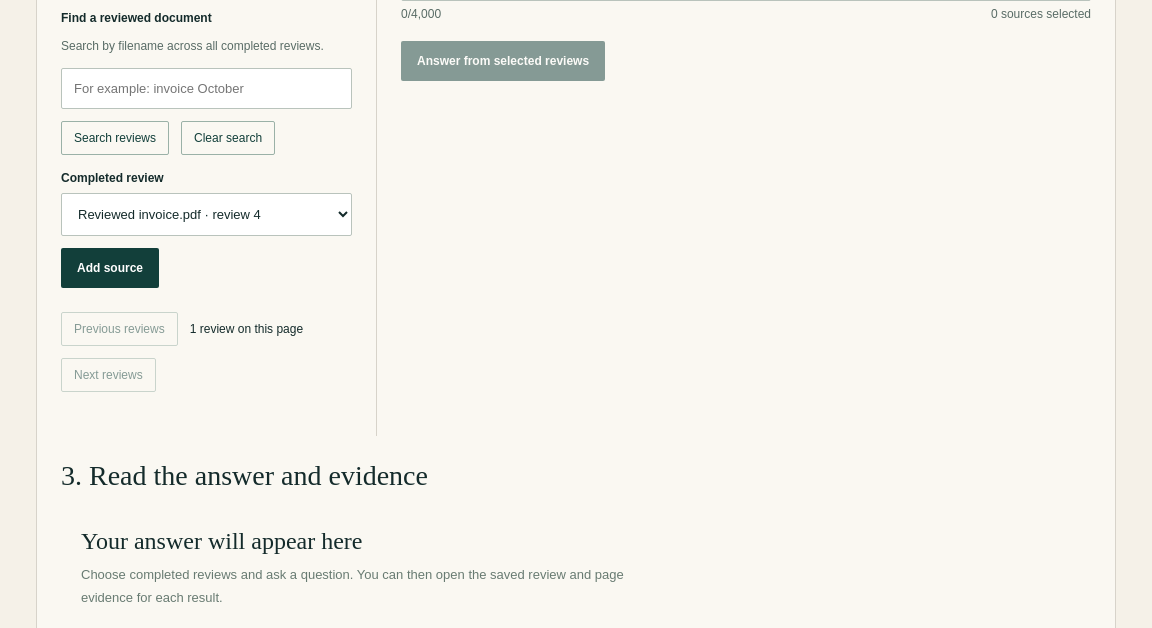
Scenario: named question workflows › replaces linked document guidance when adopting a different saved corpus
(page scrolled)
Click the button "Add source": (110, 268) x1=61 y1=248 x2=159 y2=288
(page scrolled)
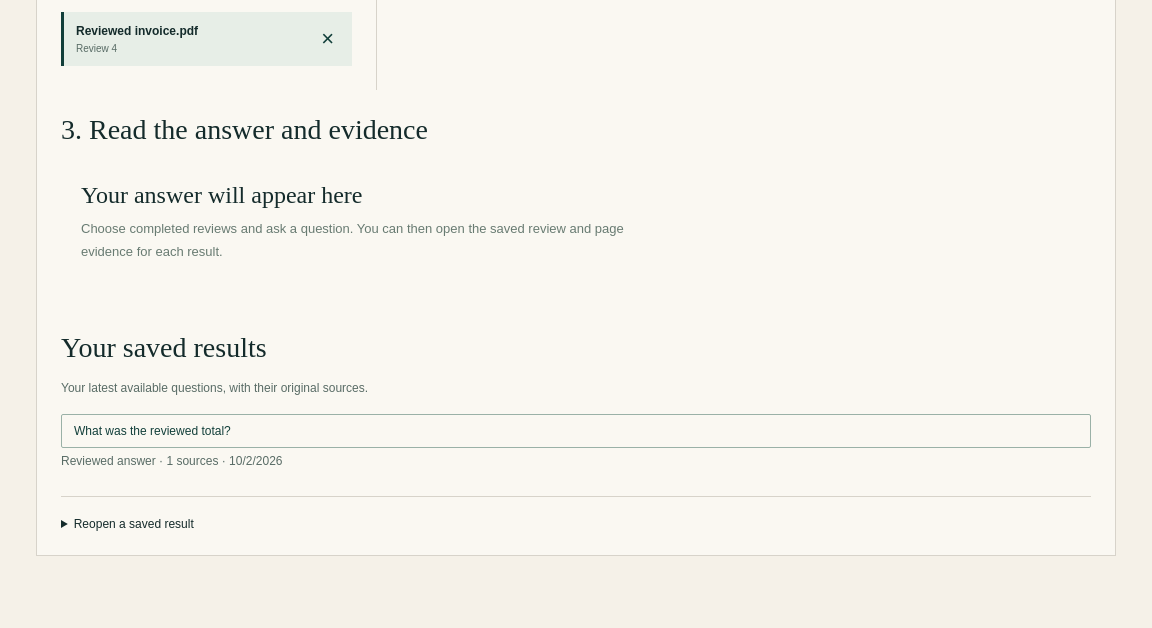
Click the button "What was the reviewed total?": (152, 431) x1=61 y1=414 x2=1091 y2=448
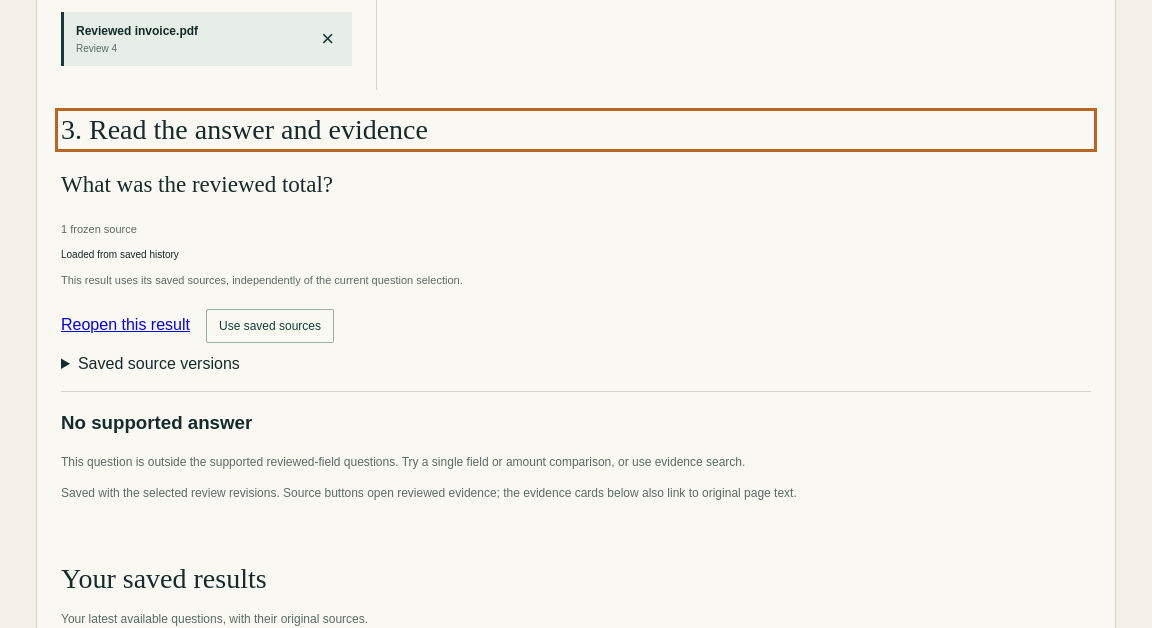
expect the heading "What was the reviewed total?" is shown: met, box x1=61 y1=172 x2=333 y2=197
Click the button "Use saved sources": (270, 326) x1=206 y1=309 x2=334 y2=343
(page scrolled)
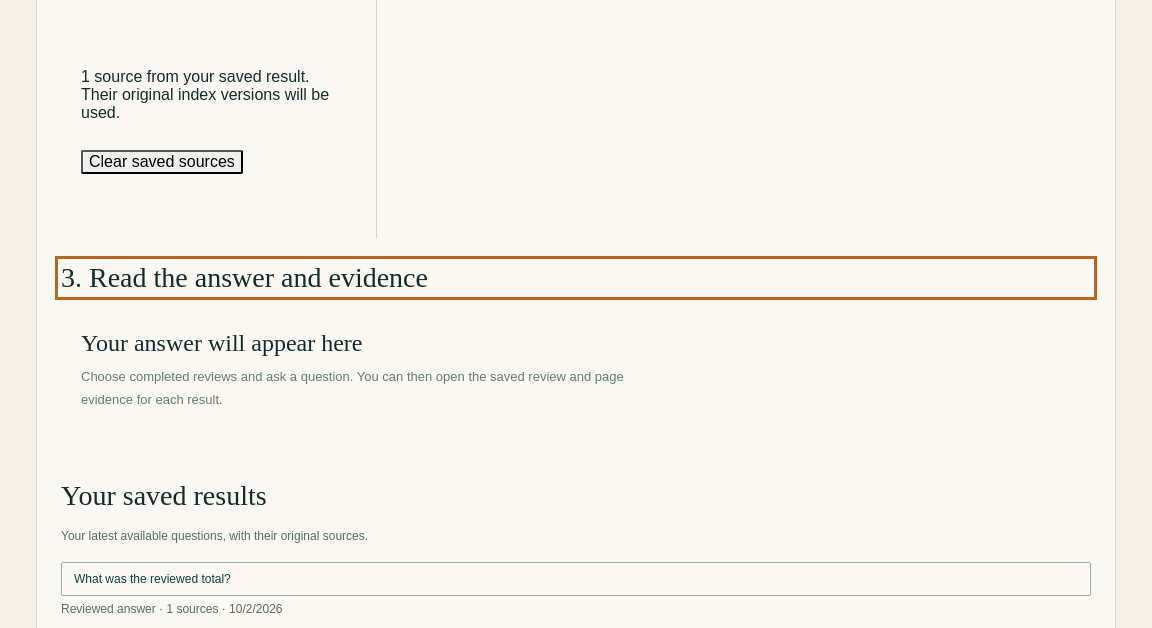
expect the text "1 source from your saved result." is shown: met, box x1=81 y1=68 x2=332 y2=122
